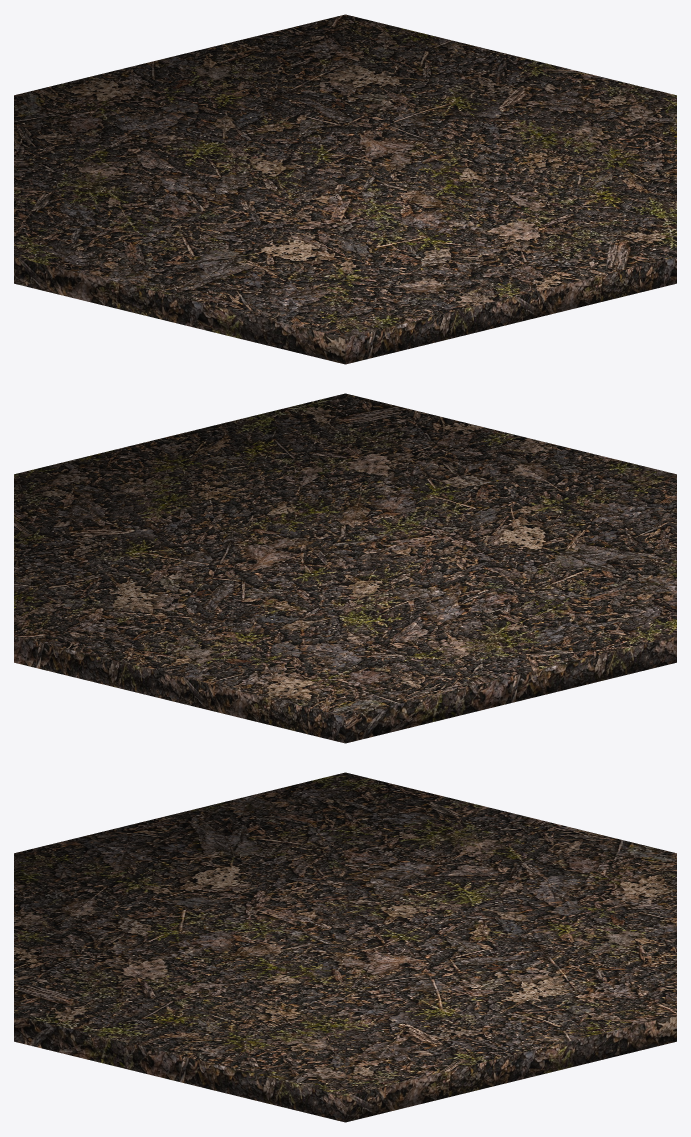
Rendered from leaf-litter-tile-v01.glb.
3 renders of one model, top to bottom at view 1: azimuth 30°, elevation 25°; view 2: azimuth 150°, elevation 25°; view 3: azimuth 270°, elevation 25°, orthographic.
Parts seen in each view (by area): view 1: leaf-litter-tile-hex; view 2: leaf-litter-tile-hex; view 3: leaf-litter-tile-hex.
Boxes of the visible parts, x1,y1,x2,y2 form: leaf-litter-tile-hex: (14,14,676,364); leaf-litter-tile-hex: (14,393,676,743); leaf-litter-tile-hex: (14,772,676,1122).
Bounding box in the file's own units: 1.96 × 0.075 × 1.7.
1 material, 1 textured.
